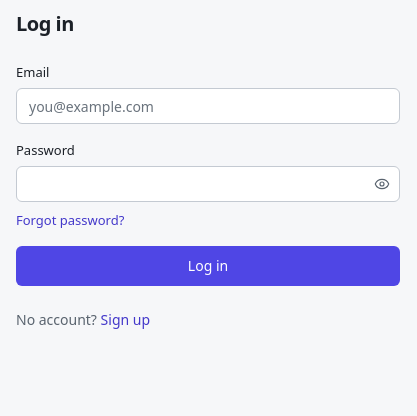
Test: shows the server error under the form and re-enables the button after a failed login
The image size is (417, 416).
In the field labelled "Email": (208, 106) [16,88,400,124], type "a@b.com"
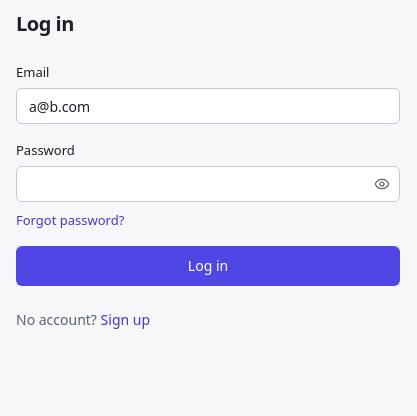
In the password field labelled "Password": (208, 184) [16,166,400,202], type "wrong-password"
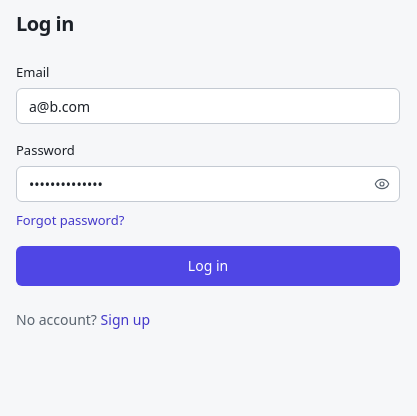
Click the button "Log in": (208, 266) [16,246,400,286]
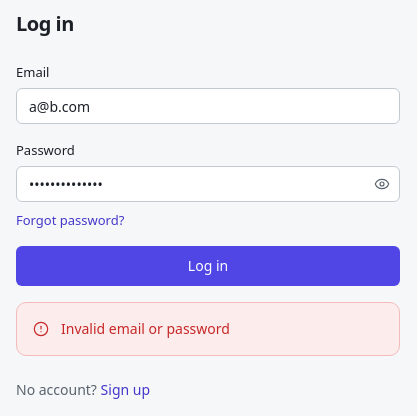
Expected: the message reads "Invalid email or password", [61,319,230,338]
